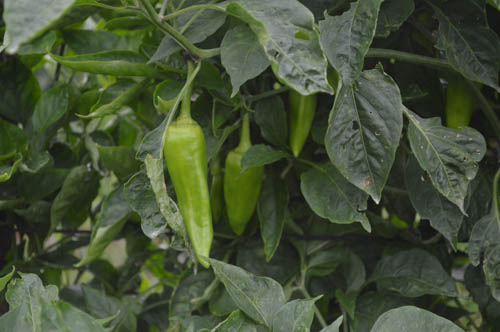ChiliPepper: (165, 123, 214, 273), (221, 150, 261, 244), (439, 75, 482, 145), (286, 83, 315, 163)
